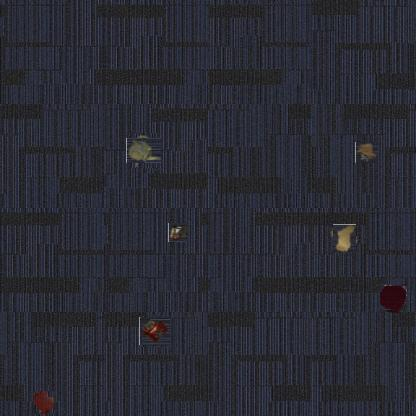dirty: (129, 135, 159, 166), (140, 317, 170, 346), (331, 226, 358, 252), (356, 141, 378, 164), (168, 223, 188, 242)
liquid: (380, 286, 406, 312), (34, 392, 54, 416)
